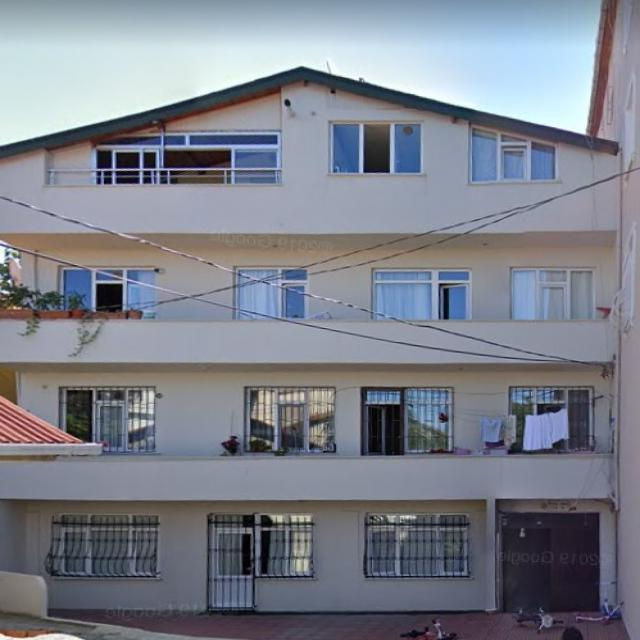Building: (1, 65, 620, 607)
